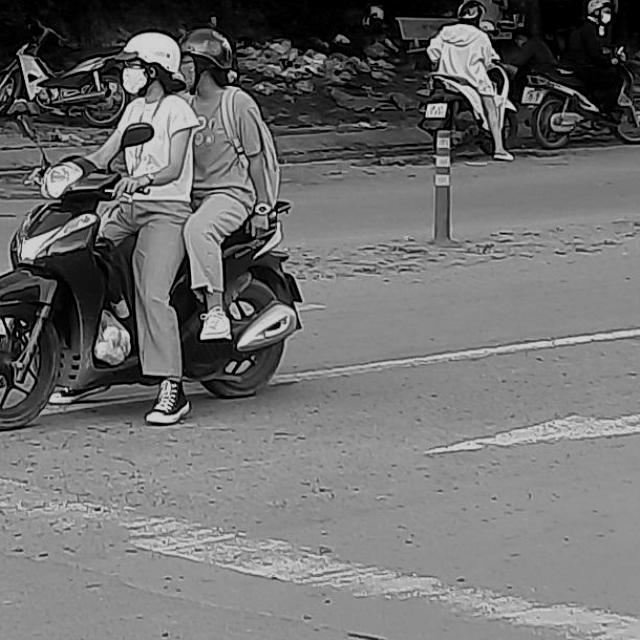Helmet: (111, 30, 180, 98), (178, 25, 236, 90)
